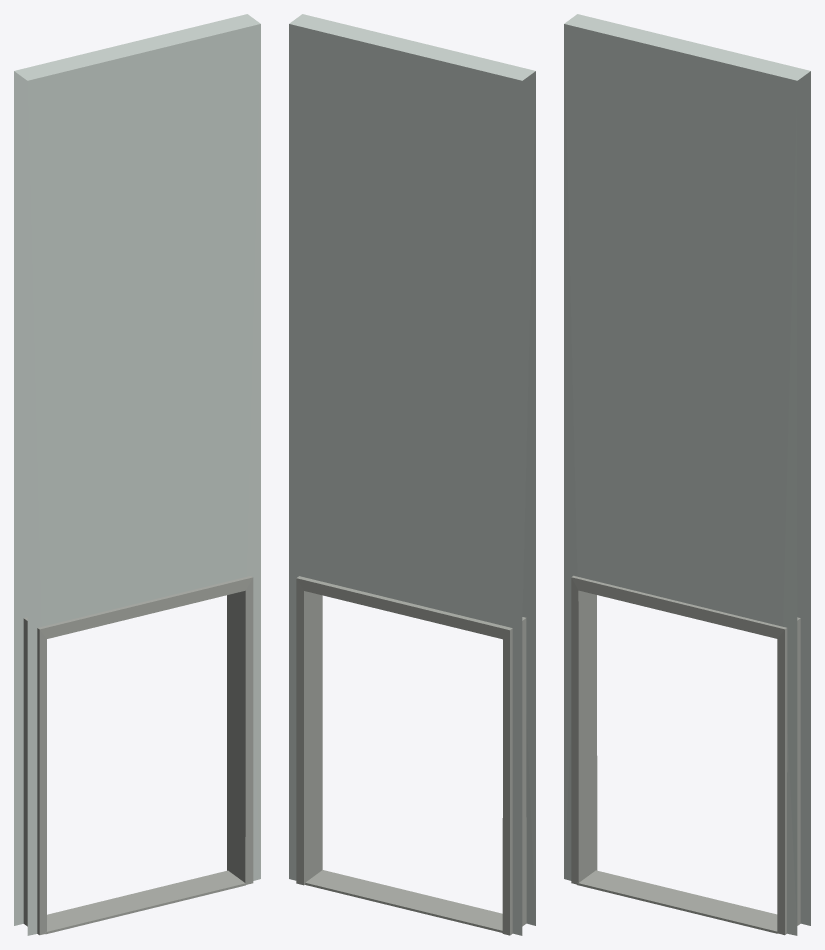
Rendered from SM_Outer_DoorFrame_B2_200.fbx.
The picture shows the model from 3 angles, left to right: view 1: azimuth 30°, elevation 25°; view 2: azimuth 150°, elevation 25°; view 3: azimuth 330°, elevation 25°; orthographic projection.
Parts seen in each view (by area): view 1: SM_Outer_DoorFrame_B2_200; view 2: SM_Outer_DoorFrame_B2_200; view 3: SM_Outer_DoorFrame_B2_200.
Boxes of the visible parts, x1,y1,x2,y2 form: SM_Outer_DoorFrame_B2_200: (14, 14, 260, 935); SM_Outer_DoorFrame_B2_200: (289, 14, 535, 935); SM_Outer_DoorFrame_B2_200: (564, 14, 810, 935).
Size of the model in its own units: 200 by 700 by 27.95.
